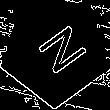N_SW: (25, 19, 86, 80)
